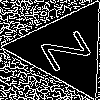Z: (40, 24, 100, 72)
